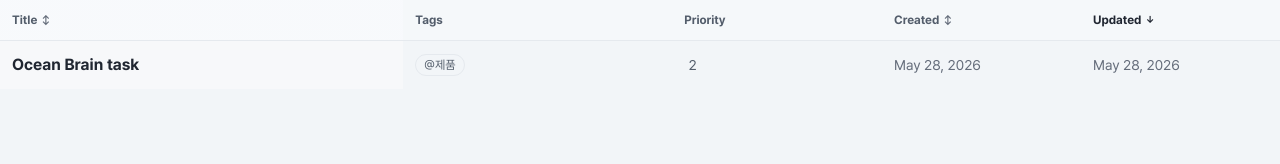
Test: editing table properties › keeps a failed draft available for retry
Click the button named "Edit Priority for Ocean Brain task" at [777, 65], box [684, 53, 870, 77]
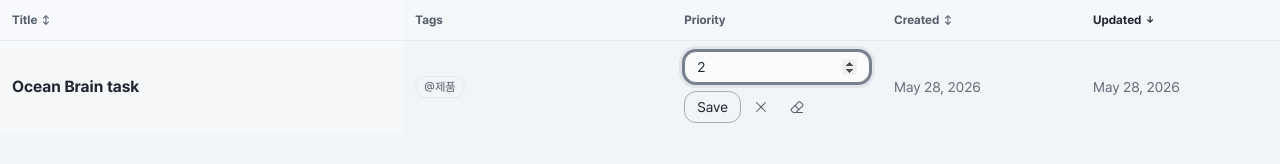
Replace the text in the number field named "Priority value" with "3" at [777, 67], box [684, 51, 870, 83]
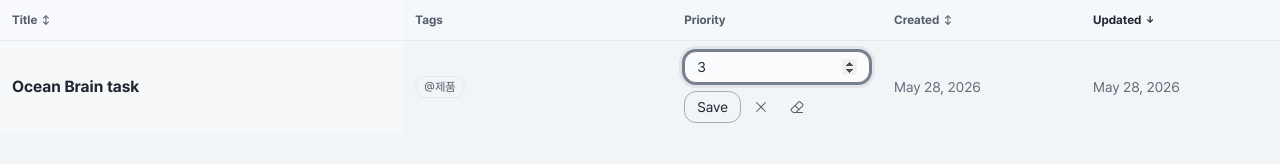
Press Enter
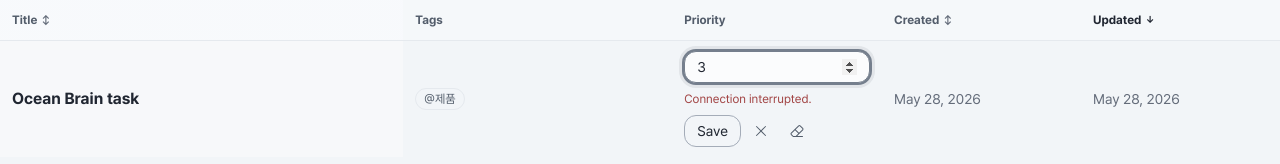
Result: the message reads "Connection interrupted." at [684, 92, 812, 106]
Click the button with aria-label "Save Priority" at [713, 131], box [684, 115, 741, 147]
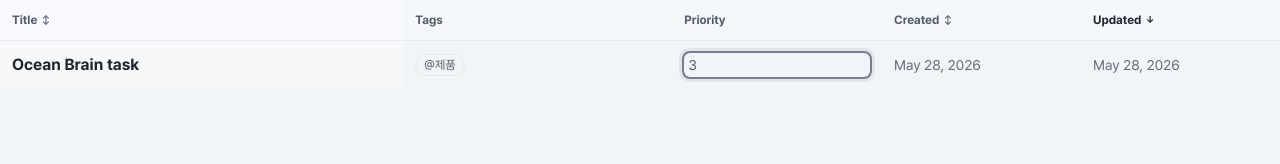
Result: the button named "Edit Priority for Ocean Brain task" reads "3" at [684, 53, 870, 77]
